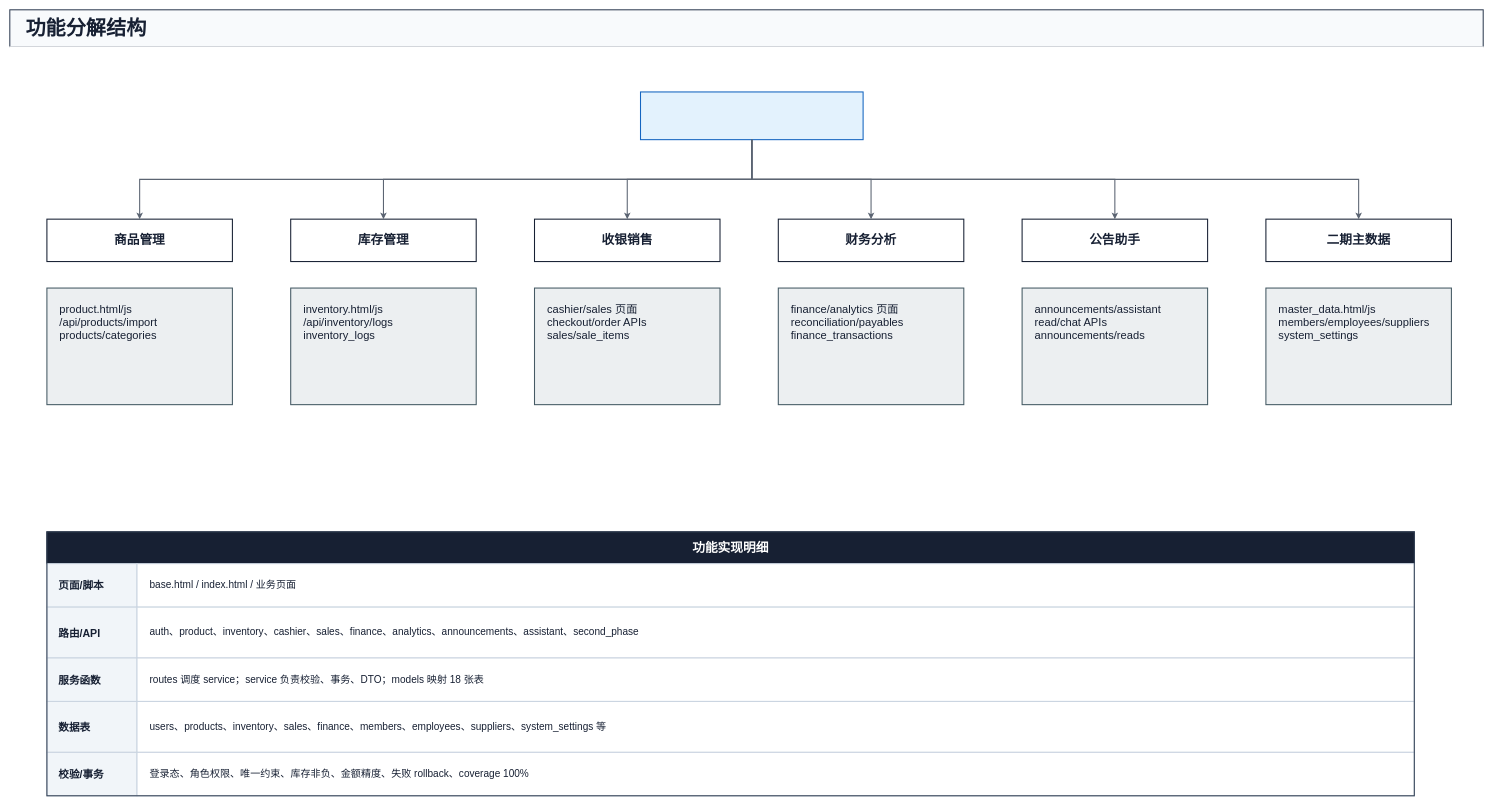
Image size: 1492x805. Some labels were removed from this diagram. Each missing label, with the centre of its shape:
功能分解结构｜模块、页面、API、落表: (x=746, y=57)
超市管理系统: (x=751, y=115)
